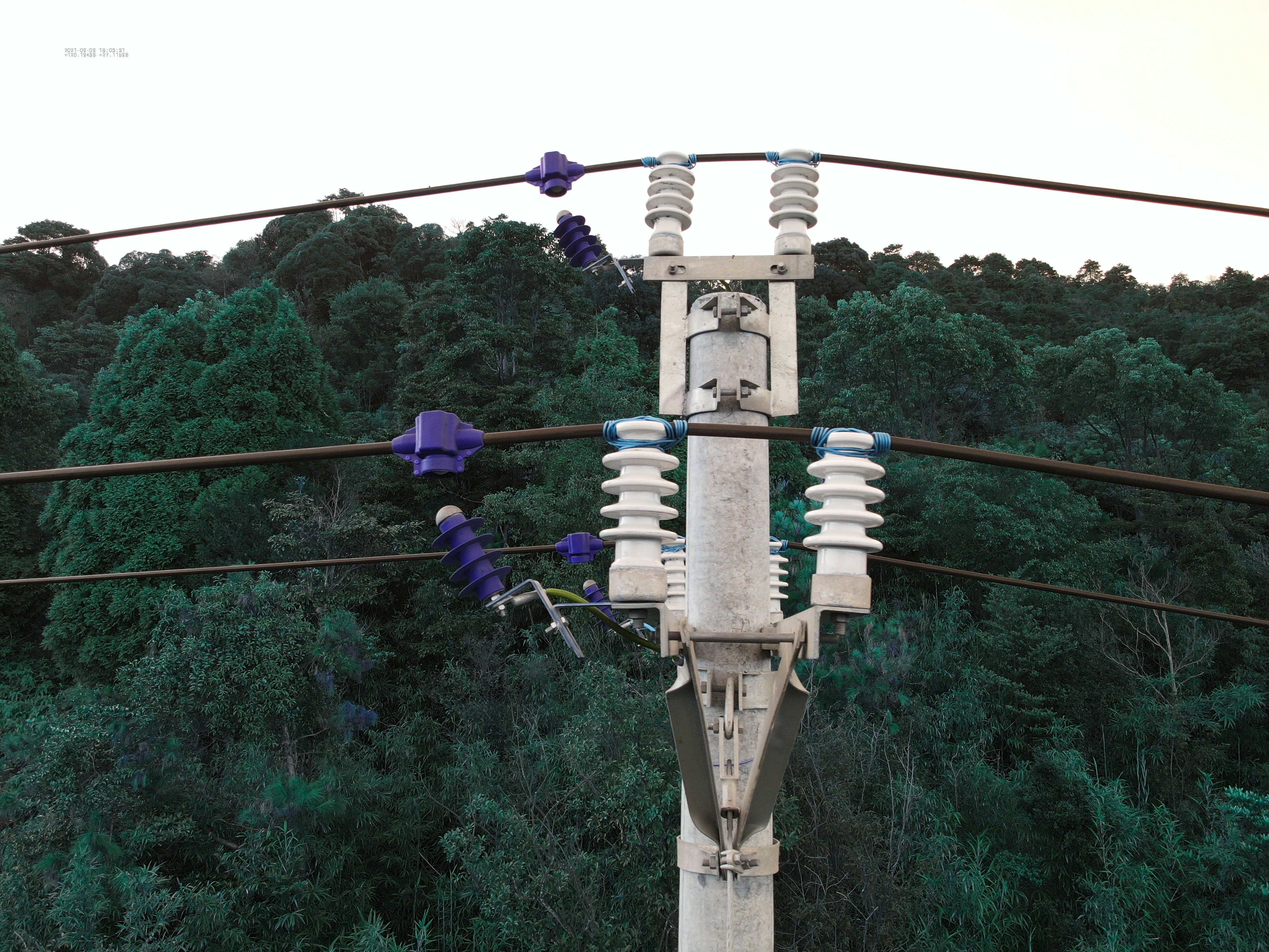severe_soiling_no_discharge_whole: (638, 149, 698, 253)
